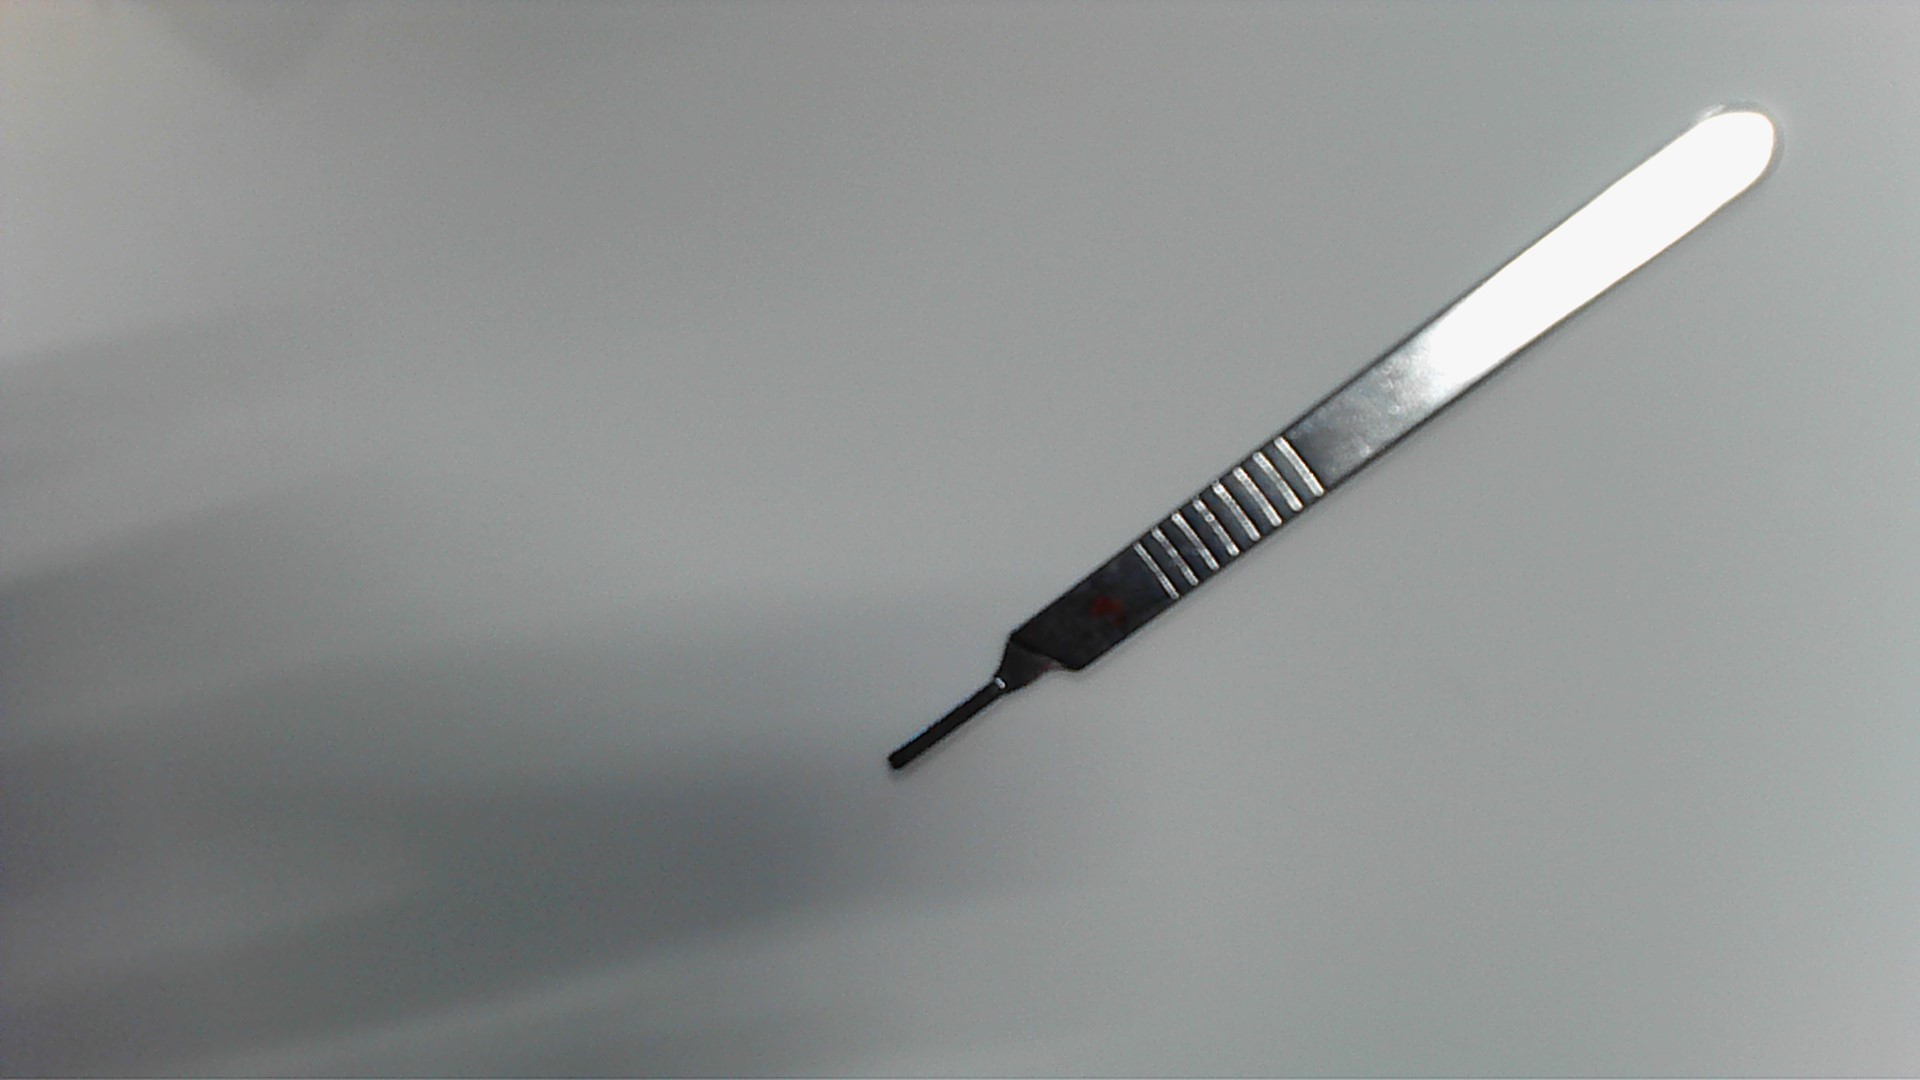Stain: (1067, 592, 1130, 625)
